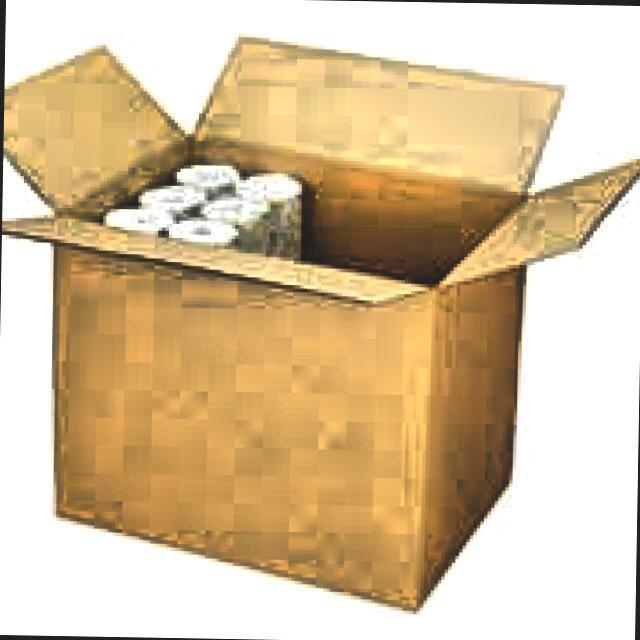cardboard: (0, 25, 640, 614)
